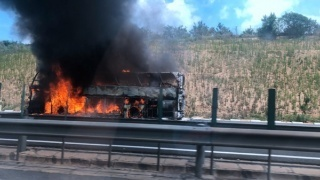fire: (31, 67, 147, 115)
